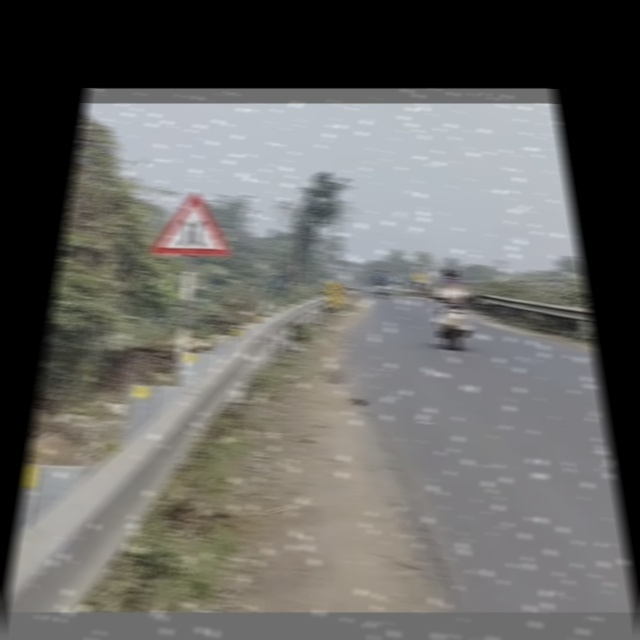Narrow_Bridge: (155, 192, 234, 258)
